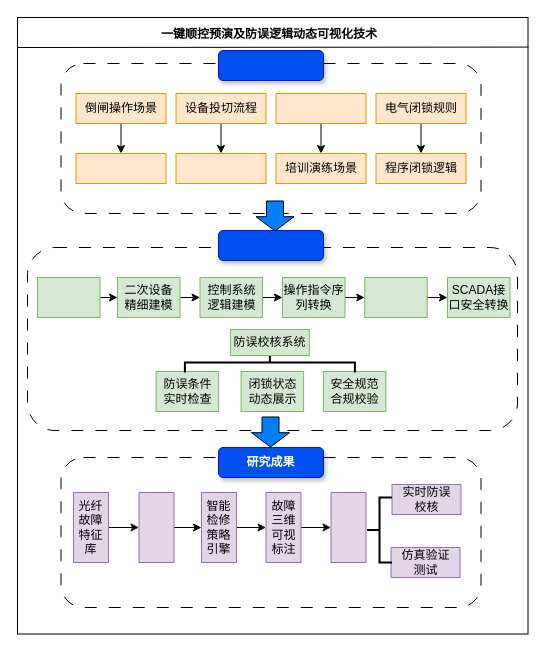
This 548x652 diagram has some shape labels left out. The centre of each missing label's shape, as x and y in pixels:
"一次设备 孪生建模" belongs at pixel 68 297.
"三维交互需求" belongs at pixel 220 168.
"保护投退步骤" belongs at pixel 320 108.
"多源融合定位算法" belongs at pixel 156 527.
"操作票解析" belongs at pixel 120 168.
"研判分析" belongs at pixel 272 247.
"自动安措票生成工具" belongs at pixel 348 527.
"虚拟操作 交互设计" belongs at pixel 395 297.
"调研梳理" belongs at pixel 272 67.
